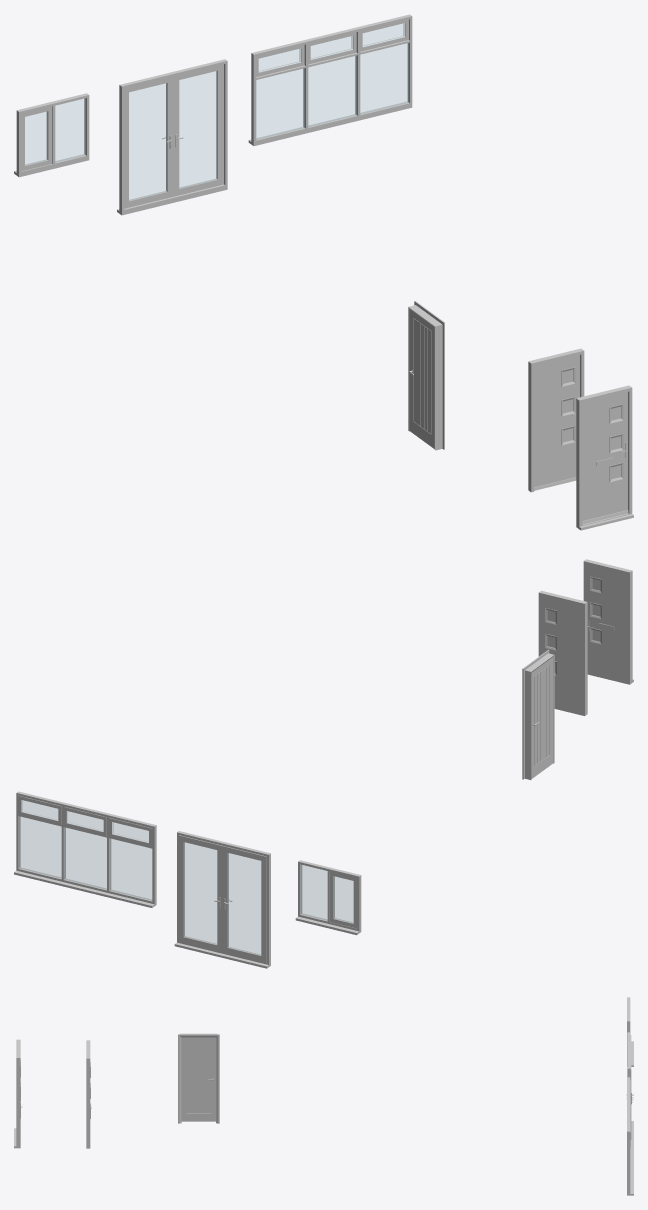
The model's file is NP03__Storey__GroundFloor__ProposedDoors__MeshModel__.glb.
The picture shows the model from 3 angles, top to bottom: view 1: azimuth 30°, elevation 25°; view 2: azimuth 150°, elevation 25°; view 3: azimuth 270°, elevation 25°; orthographic projection. The views are drawn at different scales.
Visible parts, largest first — view 1: Layer0::Default (×8), 25__ProposedBuilding__Doors::Default (×3), 24__ProposedBuilding__Windows::MAT101__Glass__ClearDefault, Layer0::MAT101__Glass__ClearDefault (×2), 25__ProposedBuilding__Doors::MAT101__Glass__ClearDefault; view 2: Layer0::Default (×7), 25__ProposedBuilding__Doors::Default (×3), 24__ProposedBuilding__Windows::MAT101__Glass__ClearDefault, Layer0::MAT101__Glass__ClearDefault (×2), 25__ProposedBuilding__Doors::MAT101__Glass__ClearDefault, 24__ProposedBuilding__Windows::Default; view 3: 25__ProposedBuilding__Doors::Default (×3), Layer0::Default (×2).
Boxes of the visible parts, <box> form: Layer0::Default (×8): <box>119,59,632,526</box>; 25__ProposedBuilding__Doors::Default (×3): <box>14,14,442,450</box>; 24__ProposedBuilding__Windows::MAT101__Glass__ClearDefault: <box>256,43,408,139</box>; Layer0::MAT101__Glass__ClearDefault (×2): <box>129,71,217,200</box>; 25__ProposedBuilding__Doors::MAT101__Glass__ClearDefault: <box>25,23,404,165</box>; Layer0::Default (×7): <box>178,559,632,964</box>; 25__ProposedBuilding__Doors::Default (×3): <box>16,653,553,935</box>; 24__ProposedBuilding__Windows::MAT101__Glass__ClearDefault: <box>19,816,151,900</box>; Layer0::MAT101__Glass__ClearDefault (×2): <box>184,842,260,954</box>; 25__ProposedBuilding__Doors::MAT101__Glass__ClearDefault: <box>22,800,353,922</box>; 24__ProposedBuilding__Windows::Default: <box>14,870,156,907</box>; 25__ProposedBuilding__Doors::Default (×3): <box>178,997,633,1193</box>; Layer0::Default (×2): <box>16,1039,90,1148</box>.
Size of the model in its own units: 6.67 by 2.09 by 13.01.
